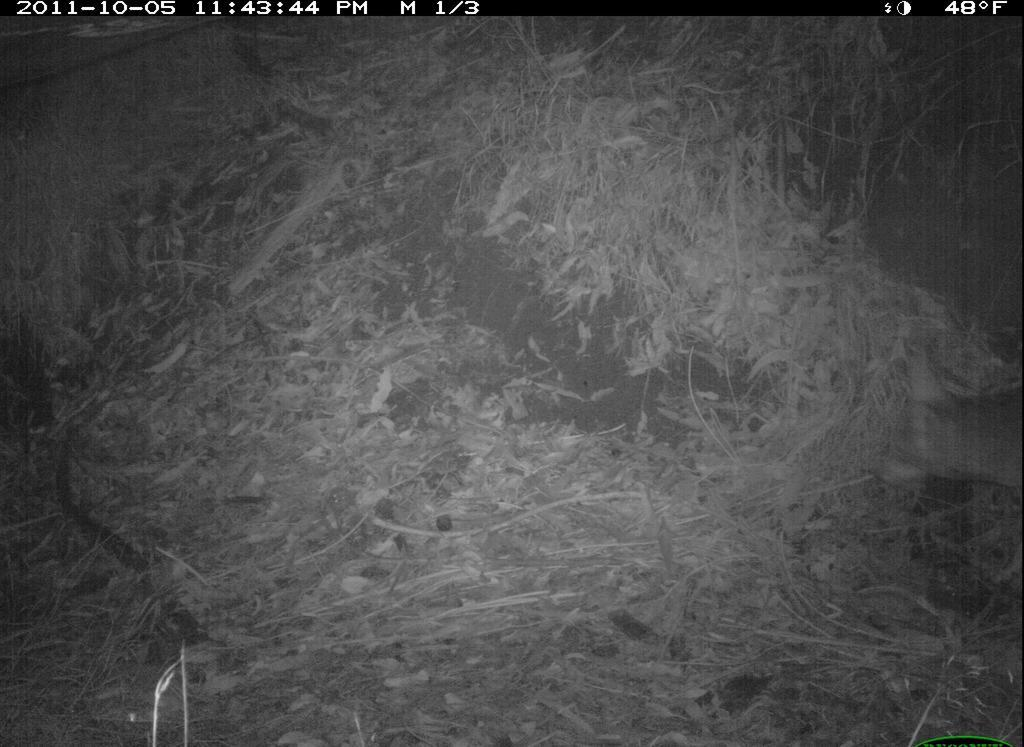coyote: (877, 335, 1019, 521)
